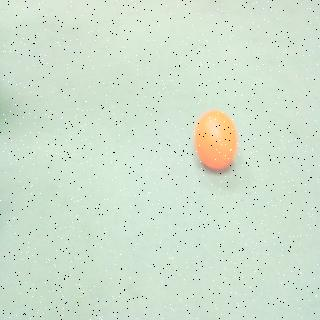orange: (192, 106, 238, 175)
